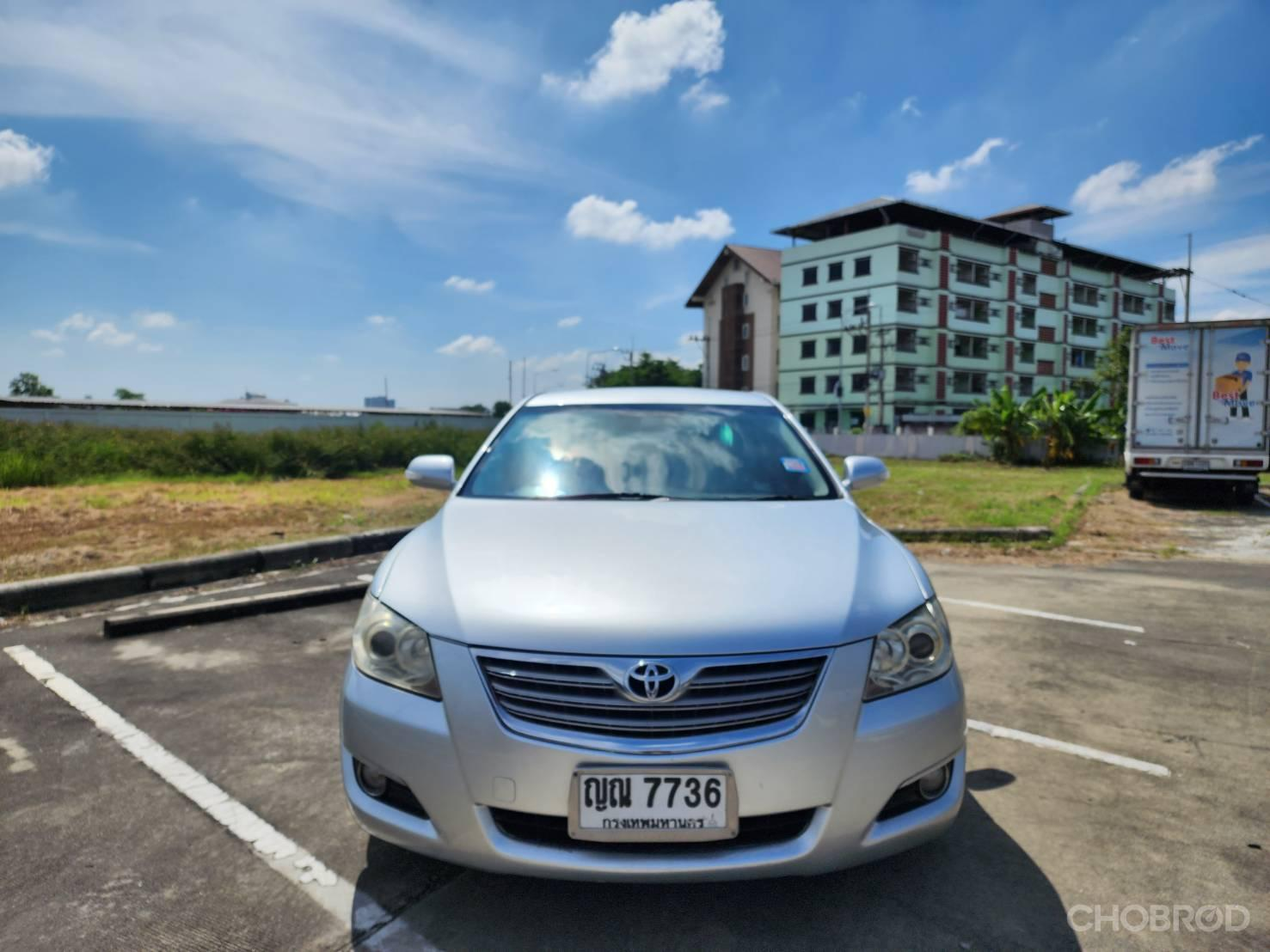license-plate: (565, 760, 740, 843)
